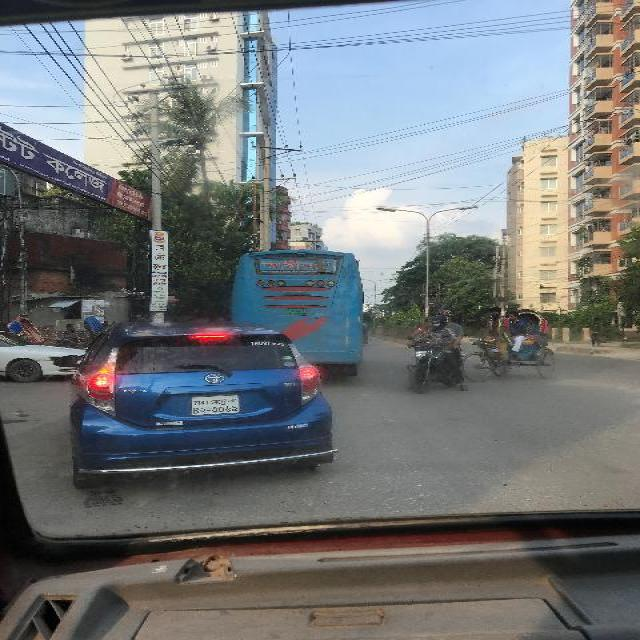10: (404, 341, 464, 394)
13: (464, 308, 556, 384), (6, 315, 46, 343)
15: (70, 321, 341, 489)
Truck: (230, 250, 358, 320)
